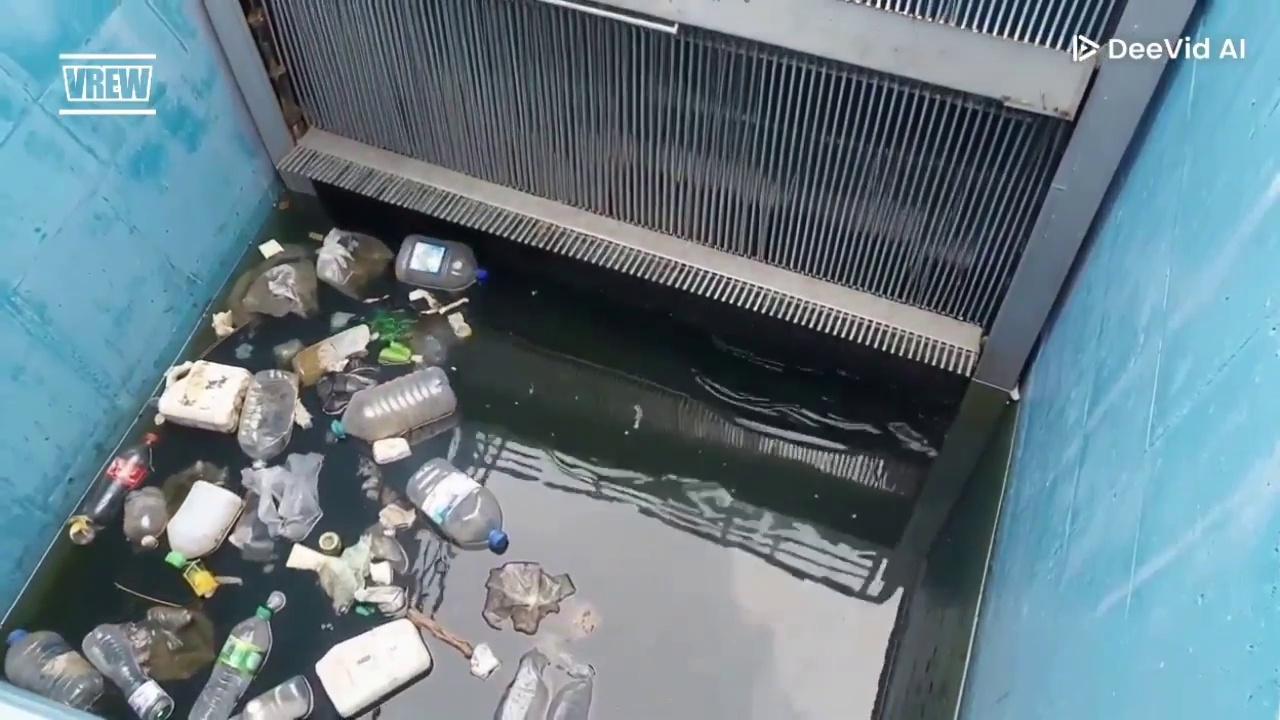debris: (189, 592, 285, 719), (315, 619, 432, 717), (68, 433, 158, 544), (406, 458, 508, 553), (331, 367, 456, 442), (286, 533, 397, 613), (81, 624, 174, 717), (5, 629, 105, 710), (227, 244, 317, 327), (242, 453, 323, 541), (482, 562, 575, 635), (157, 360, 251, 432), (286, 538, 369, 614), (286, 537, 369, 613), (237, 368, 298, 467), (166, 480, 243, 558), (316, 228, 393, 298), (291, 324, 371, 386), (394, 234, 479, 292), (537, 597, 599, 671), (239, 259, 317, 317), (495, 648, 549, 719), (161, 460, 225, 519), (317, 538, 368, 612), (406, 608, 474, 658), (228, 491, 274, 562), (239, 675, 313, 719), (122, 486, 168, 549), (316, 366, 376, 414), (547, 665, 594, 719), (165, 551, 218, 597), (362, 524, 408, 572), (113, 582, 181, 607), (367, 309, 414, 342), (355, 585, 406, 615), (409, 290, 468, 315), (566, 603, 599, 639), (286, 543, 326, 571), (356, 455, 381, 499), (469, 643, 499, 678), (372, 437, 411, 463), (379, 504, 415, 529), (272, 339, 303, 368), (420, 297, 468, 315), (378, 341, 412, 364), (211, 311, 236, 338), (446, 312, 471, 338), (317, 531, 341, 555), (408, 288, 438, 307), (294, 398, 312, 429), (368, 562, 393, 584), (374, 484, 400, 505), (330, 312, 355, 331), (258, 239, 283, 258), (234, 342, 253, 360), (362, 295, 390, 305), (215, 576, 243, 585), (632, 404, 642, 429), (277, 195, 290, 209), (308, 231, 325, 241), (153, 413, 165, 426), (410, 354, 424, 364)
